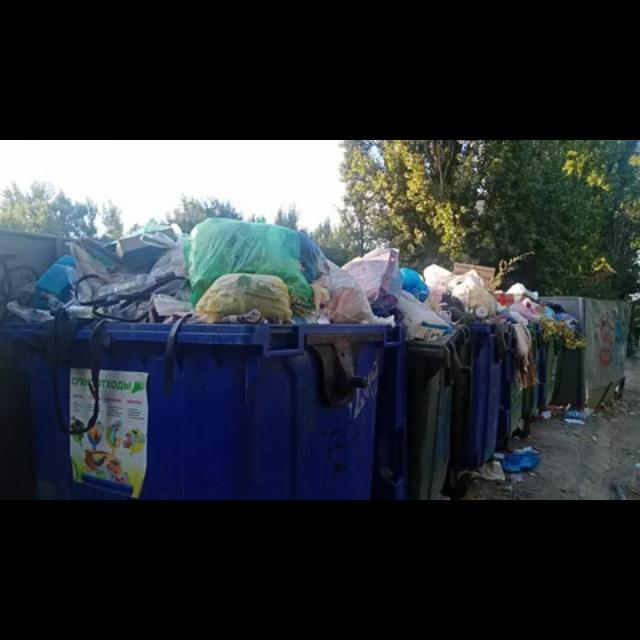Trash_Can_Full: (6, 216, 388, 500), (405, 267, 470, 500), (473, 272, 513, 472)
